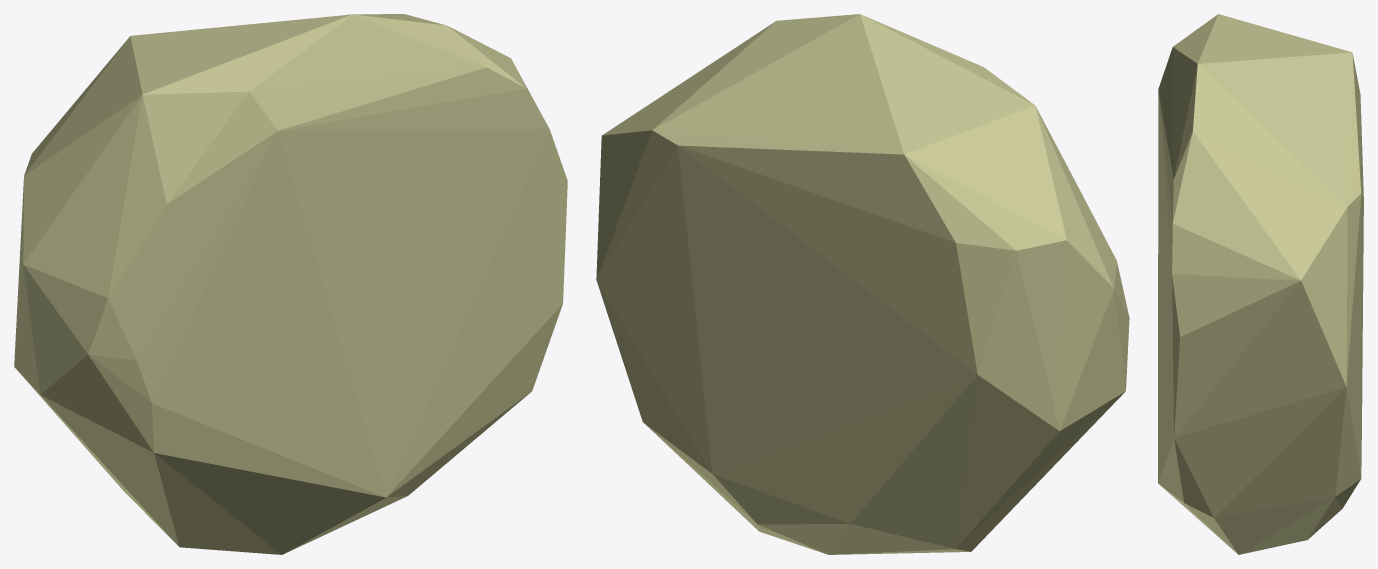
The model's file is food_prepared_donut_c01.glb.
3 views of the same model, side by side, from view 1: azimuth 30°, elevation 25°; view 2: azimuth 150°, elevation 25°; view 3: azimuth 270°, elevation 25° (orthographic). The views are drawn at different scales.
Visible parts, largest first — view 1: geometry_0; view 2: geometry_0; view 3: geometry_0.
Part boxes in pixels (x1,y1,x2,y2): geometry_0: [14, 14, 567, 554]; geometry_0: [596, 14, 1129, 554]; geometry_0: [1158, 14, 1363, 554].
Size of the model in its own units: 0.4581 by 0.4541 by 0.1789.
